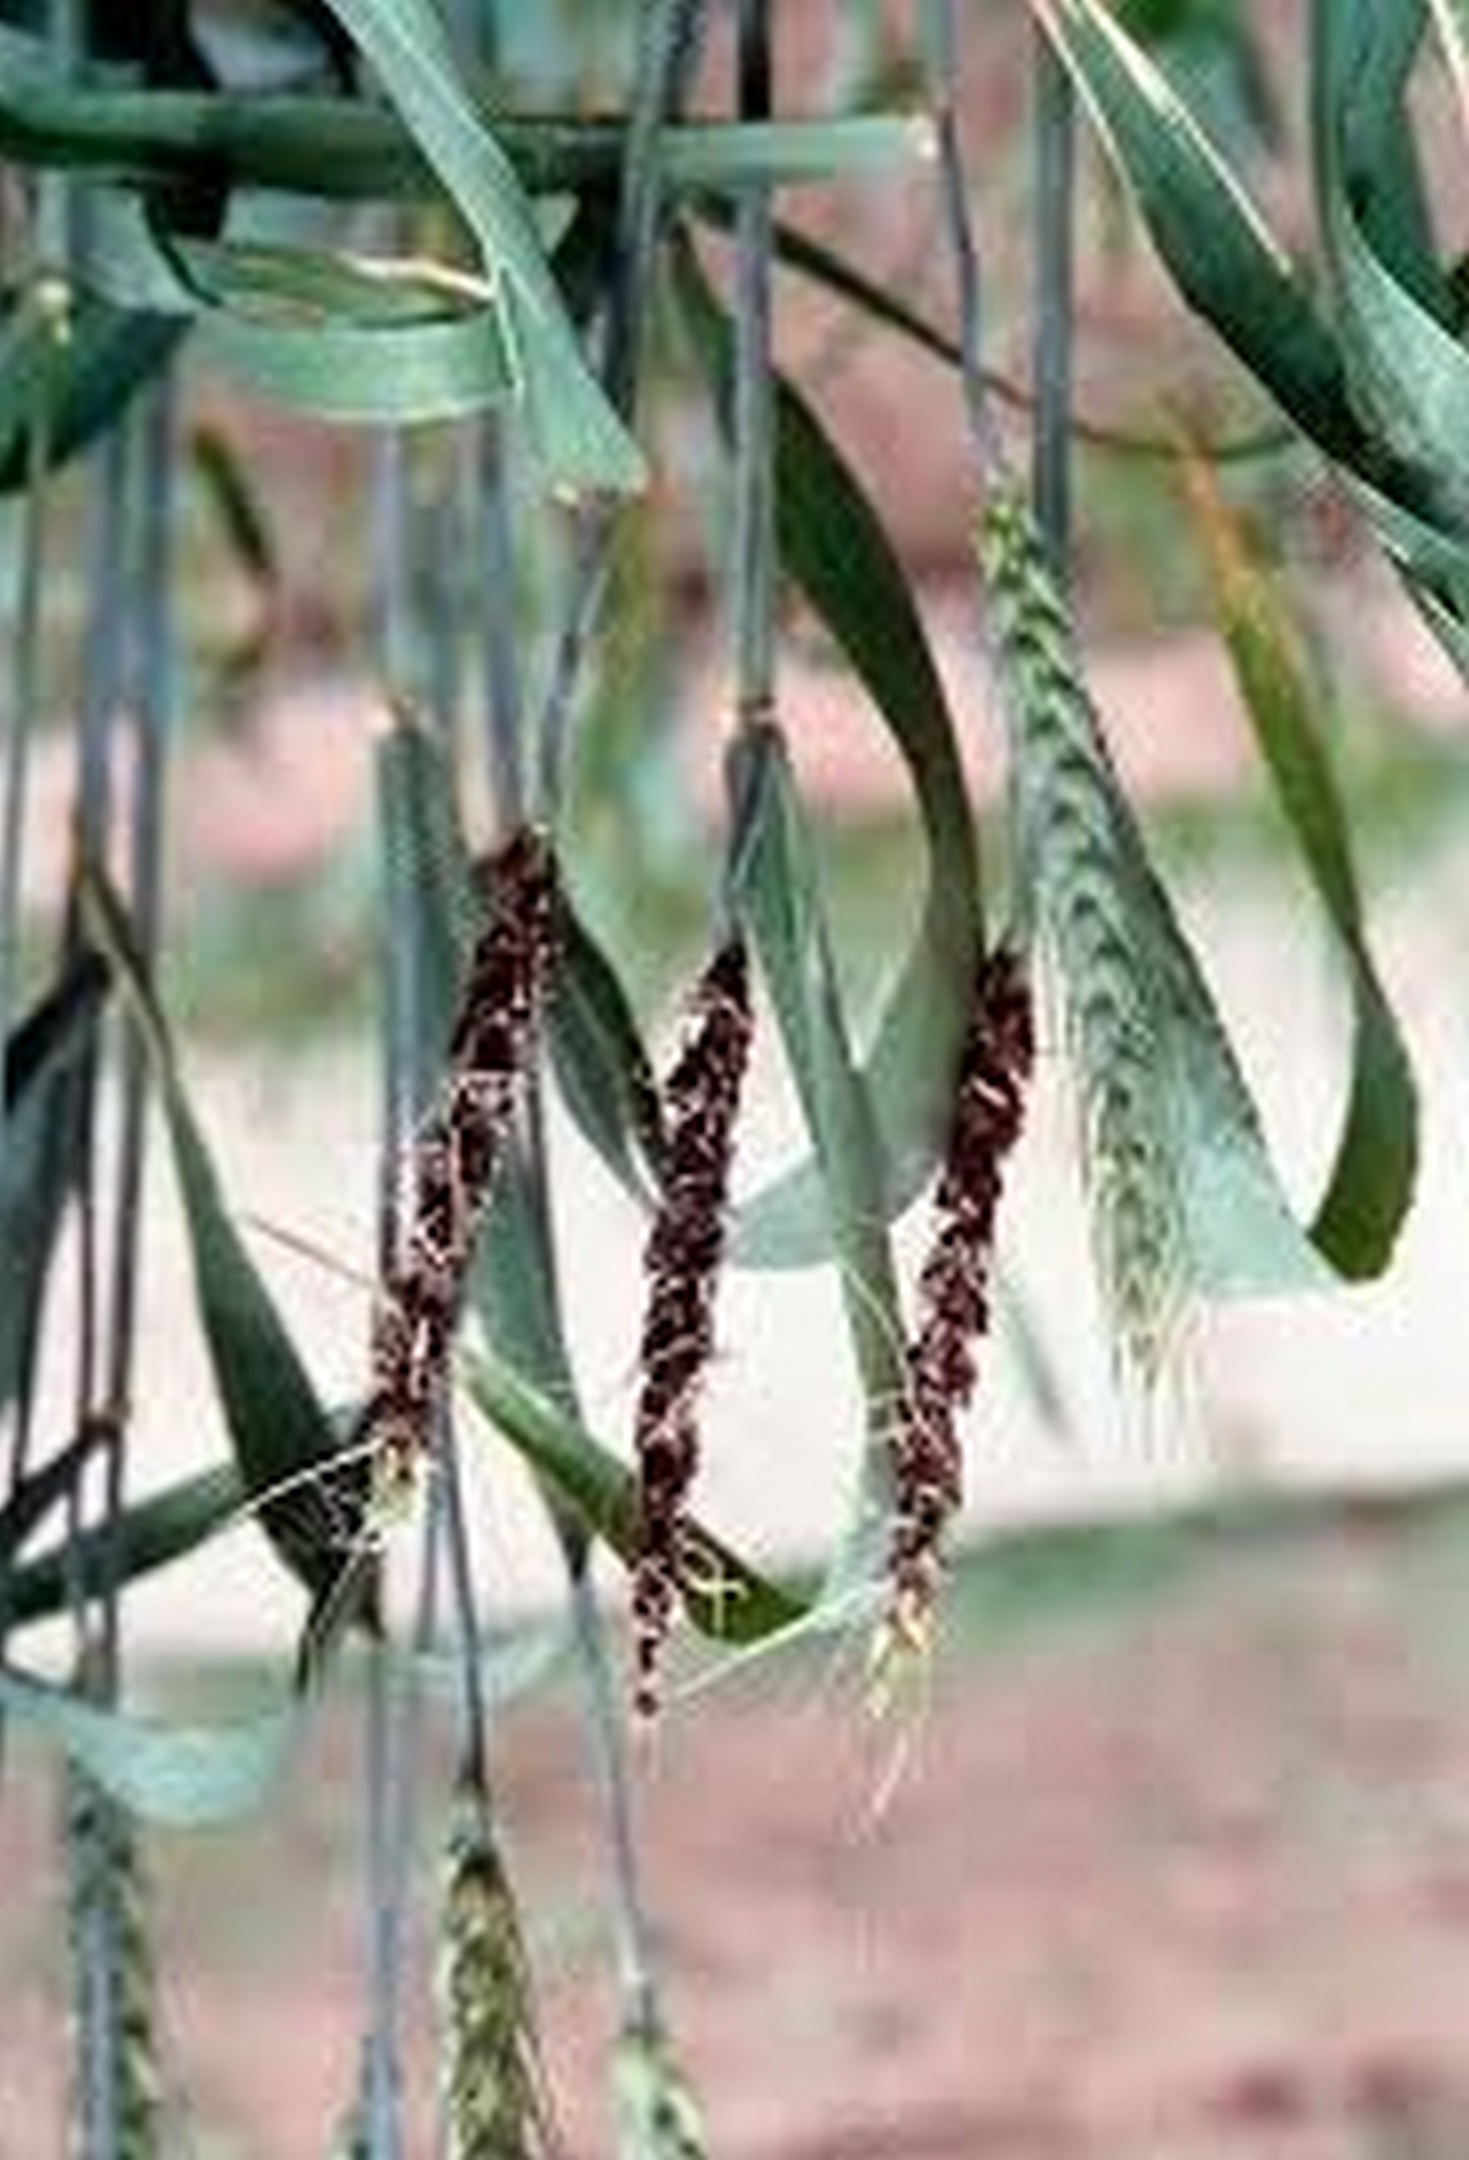Wheat Loose Smut: (339, 842, 1051, 1714)
